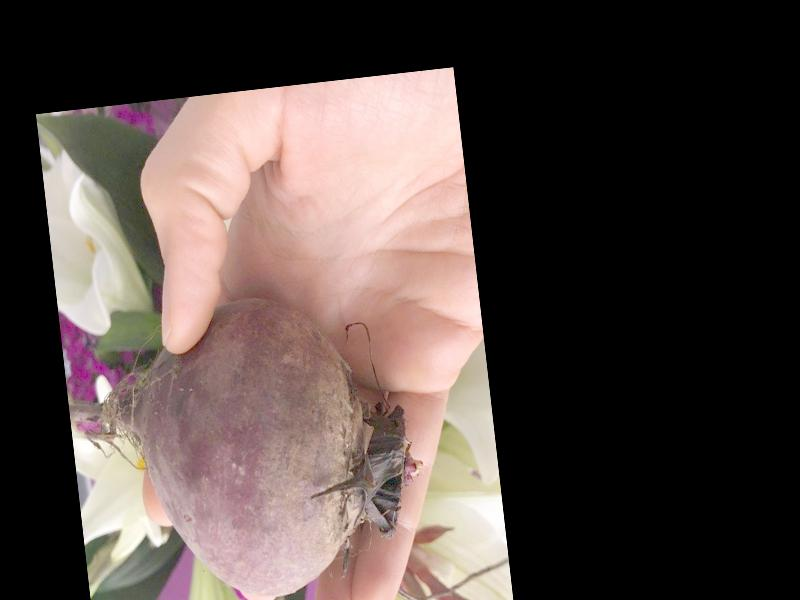Beet: (60, 282, 433, 600)
